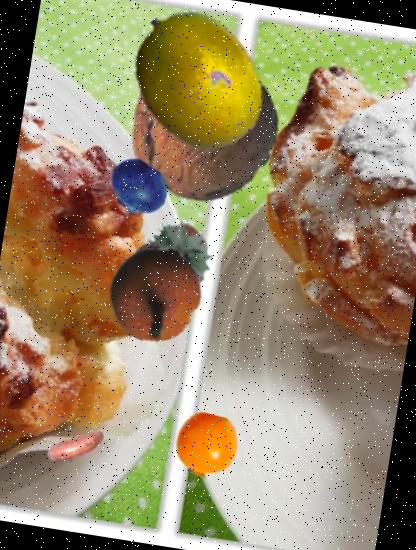Banana: (42, 414, 112, 484)
Granadilla: (102, 240, 210, 349)
Huckleberry: (103, 153, 173, 224)
Maracuja: (113, 0, 282, 164)
Physalis: (168, 409, 245, 486)
Strawberry: (106, 211, 228, 333)
Walnut: (118, 46, 286, 214)
